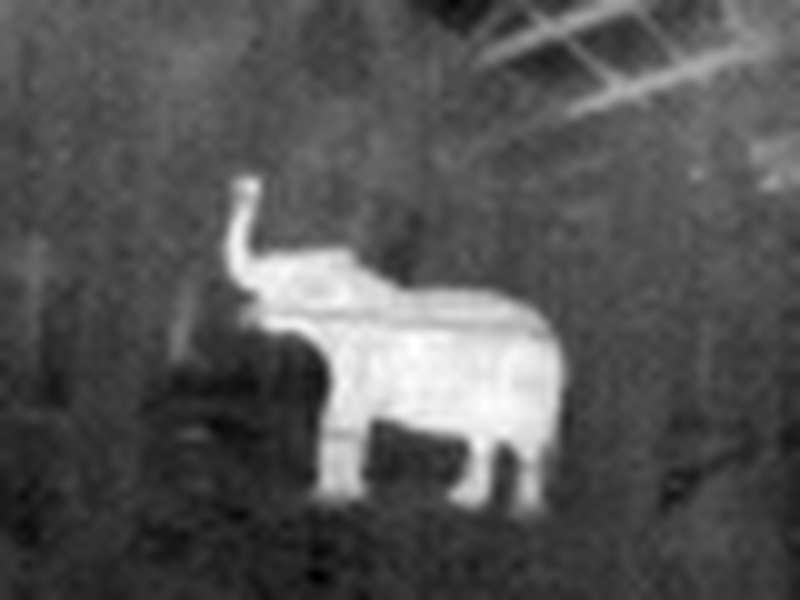elephant: (213, 171, 553, 514)
